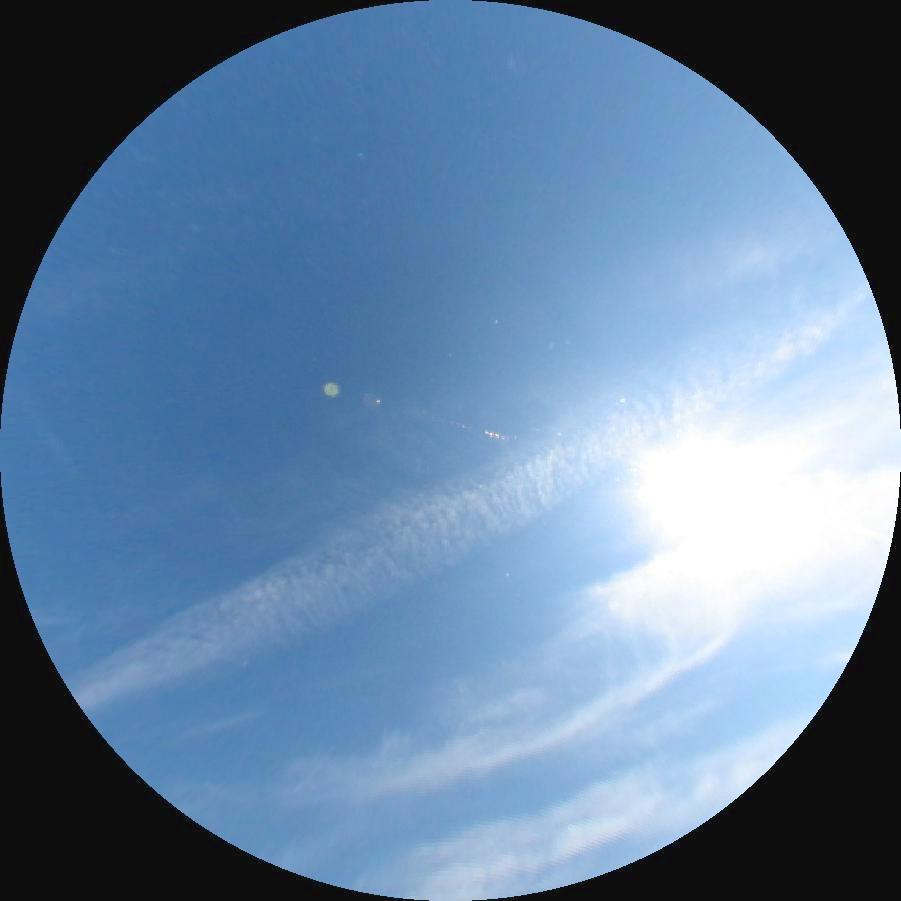contrail veryold: (61, 249, 896, 756)
sun: (649, 438, 779, 554)
